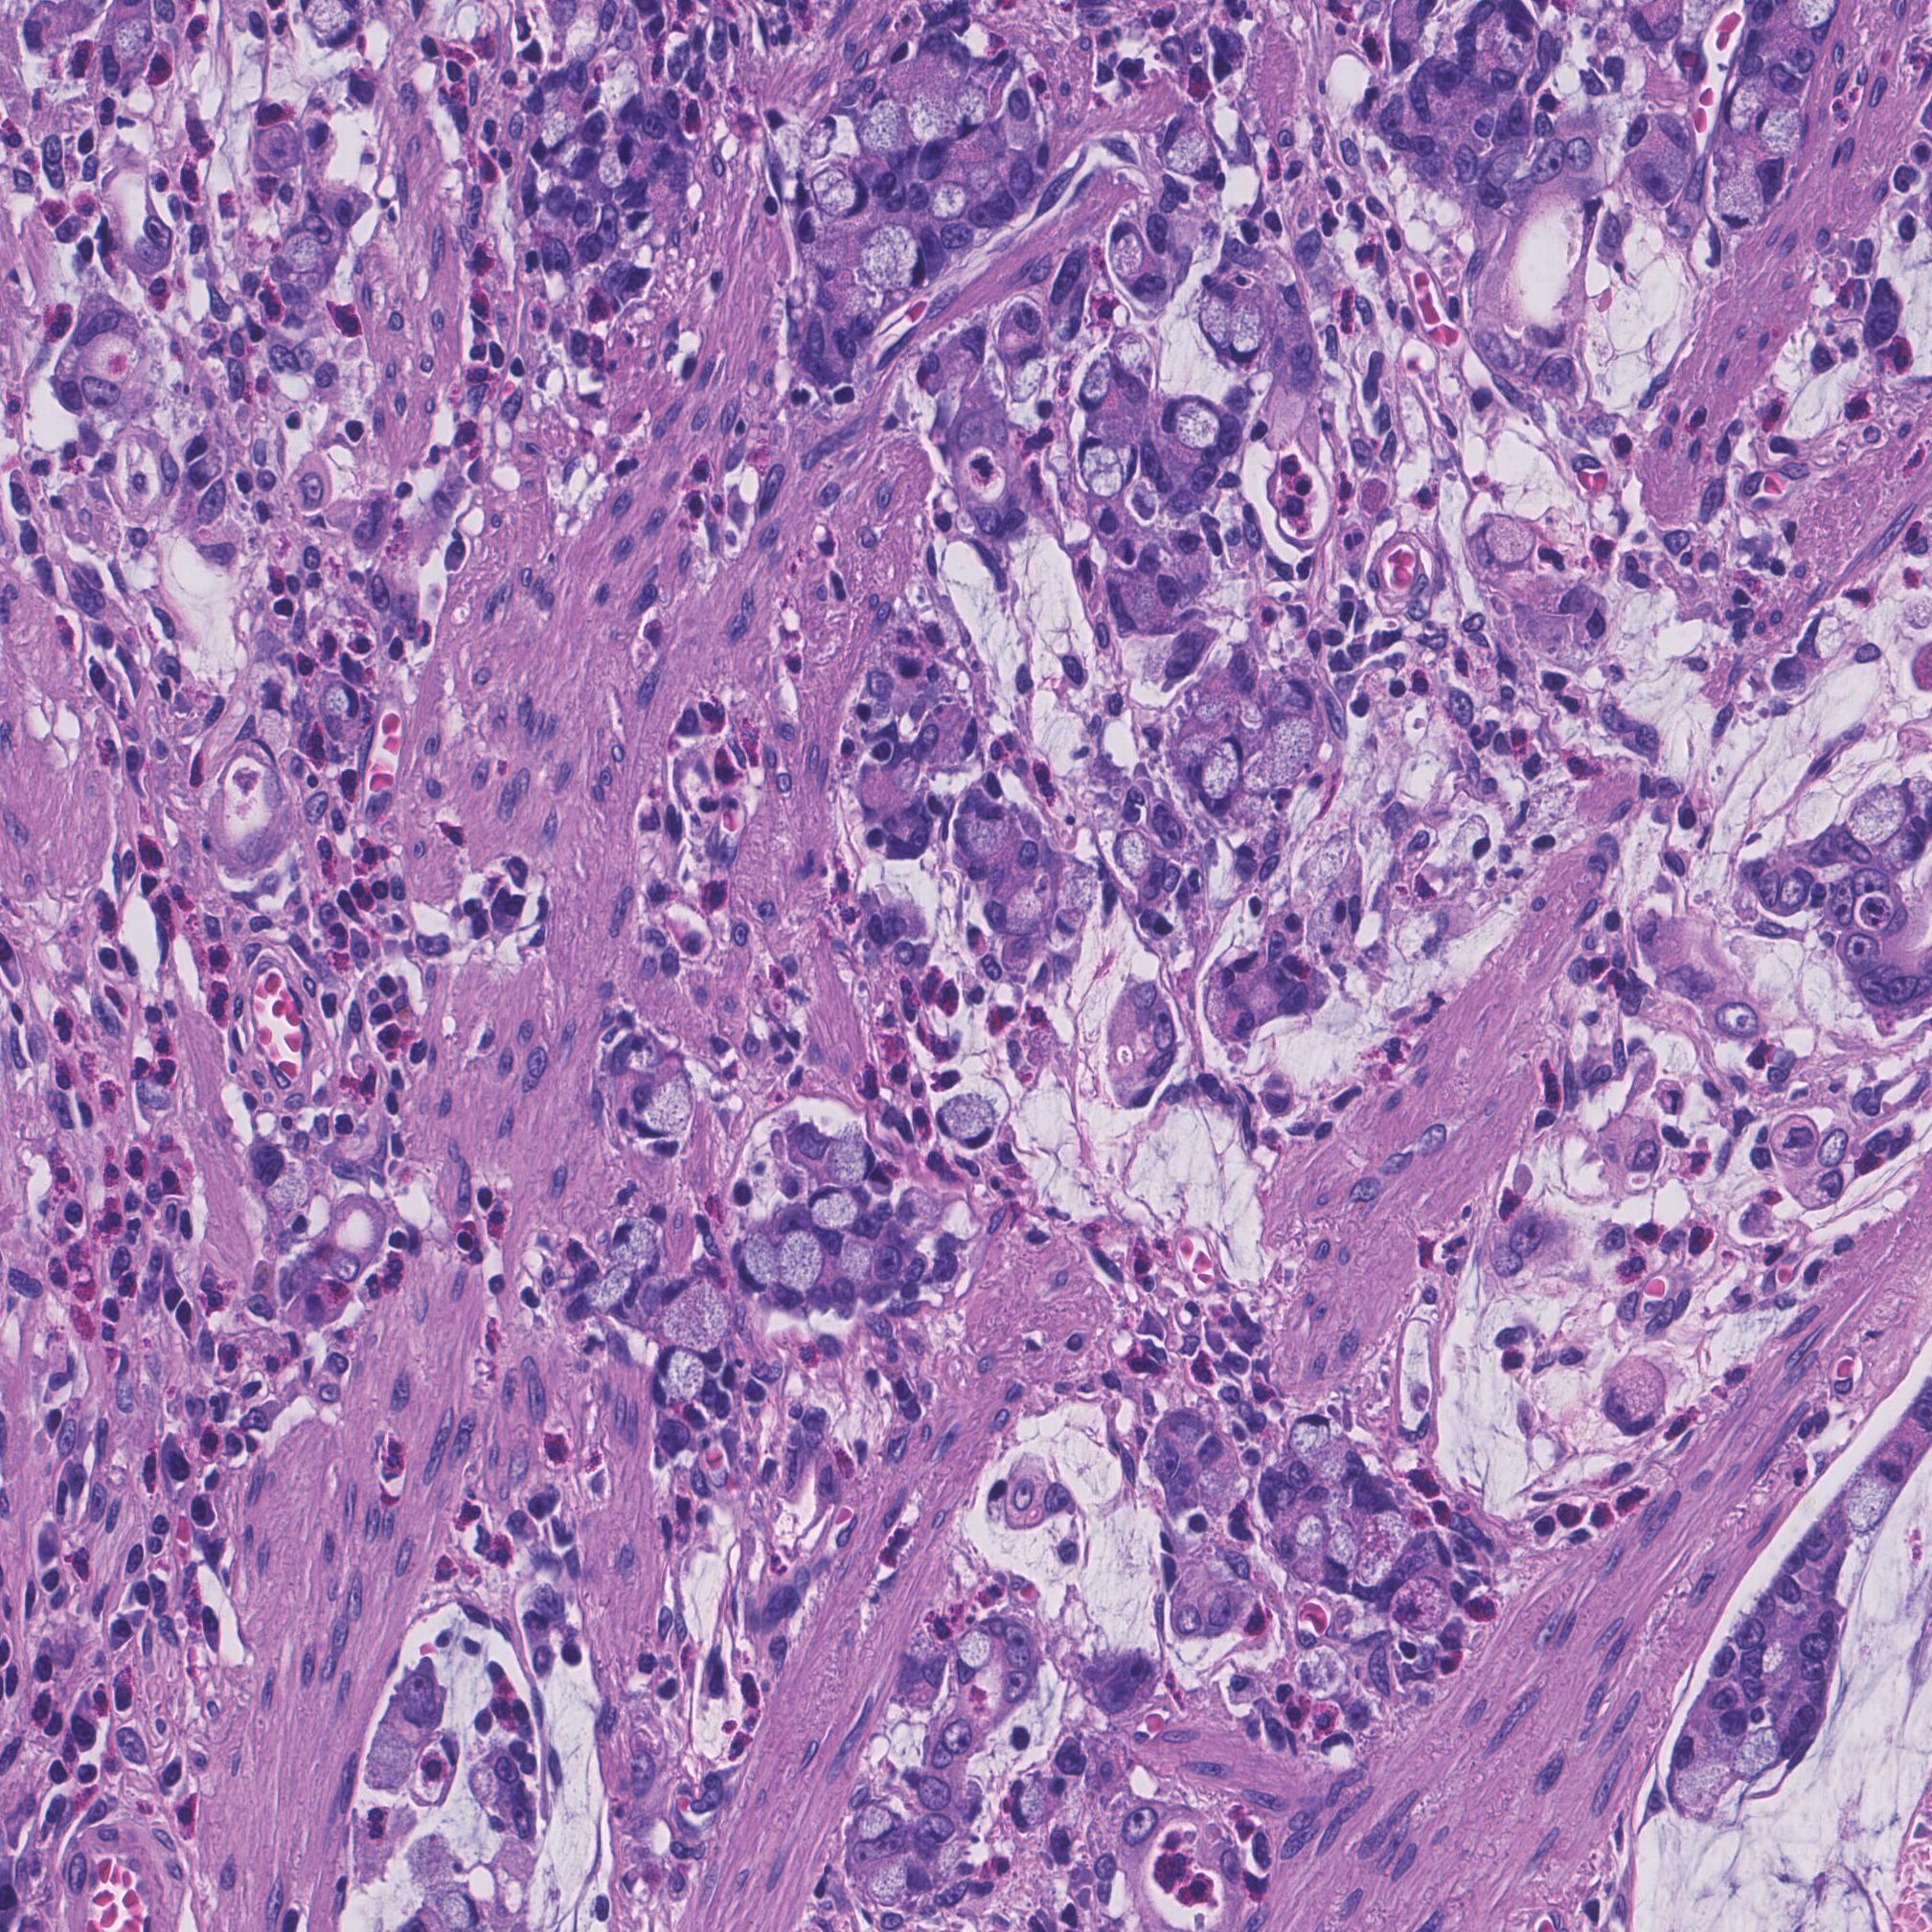ring_cell_cancer: (104, 435, 179, 518), (469, 1752, 541, 1836), (1601, 1361, 1670, 1437), (76, 336, 145, 409), (658, 1277, 731, 1346), (1638, 115, 1693, 203), (327, 1200, 387, 1279), (1111, 223, 1171, 303), (1161, 117, 1228, 186), (1720, 150, 1785, 221), (1201, 292, 1267, 363), (632, 1076, 699, 1143), (865, 226, 927, 297), (1116, 571, 1178, 640), (807, 157, 872, 218), (1198, 736, 1242, 816), (778, 1228, 819, 1309), (938, 1090, 994, 1148), (320, 674, 368, 740), (805, 1187, 858, 1246), (824, 1131, 878, 1187), (1605, 1120, 1658, 1175), (1394, 1580, 1449, 1633), (922, 704, 975, 759), (656, 1350, 708, 1407), (609, 1221, 662, 1274), (1081, 442, 1125, 506), (1003, 301, 1044, 370), (1016, 1780, 1069, 1831), (418, 1732, 456, 1801), (1729, 71, 1775, 129), (274, 226, 326, 278), (736, 1230, 778, 1292), (1753, 108, 1810, 154), (968, 805, 1014, 860), (594, 1267, 640, 1320), (249, 129, 304, 173), (901, 1187, 945, 1242), (948, 1629, 991, 1686), (1283, 1415, 1336, 1460), (1109, 830, 1154, 881), (1799, 616, 1845, 658), (1453, 816, 1495, 858), (1081, 361, 1116, 405)
